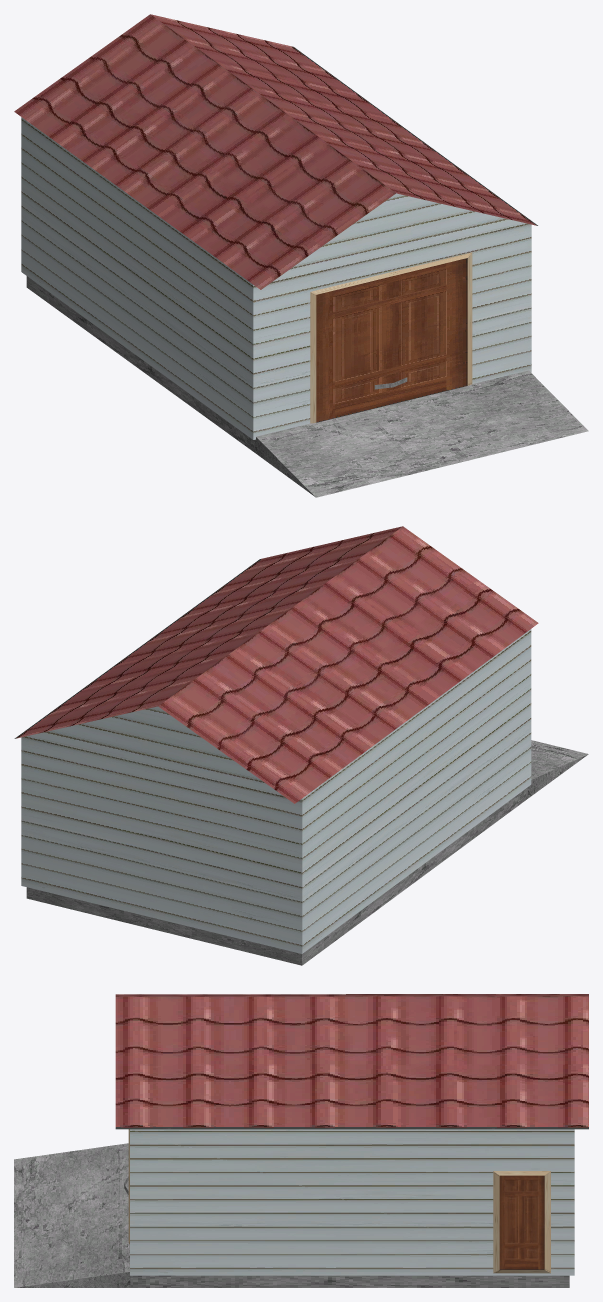
The model's file is Garasje.glb.
3 views of the same model, one above another, from view 1: azimuth 30°, elevation 25°; view 2: azimuth 150°, elevation 25°; view 3: azimuth 270°, elevation 25° (orthographic). The views are drawn at different scales.
Parts seen in each view (by area): view 1: Hus2, StorDoor; view 2: Hus2; view 3: Hus2, Door1.
Part boxes in pixels (left/top/right/bottom): Hus2: left=14, top=14, right=588, bottom=497; StorDoor: left=310, top=252, right=472, bottom=423; Hus2: left=14, top=526, right=588, bottom=965; Hus2: left=14, top=994, right=588, bottom=1287; Door1: left=493, top=1171, right=550, bottom=1273.
Bounding box in the file's own units: 6.83 × 5.42 × 12.53.
1 material, 1 textured.
